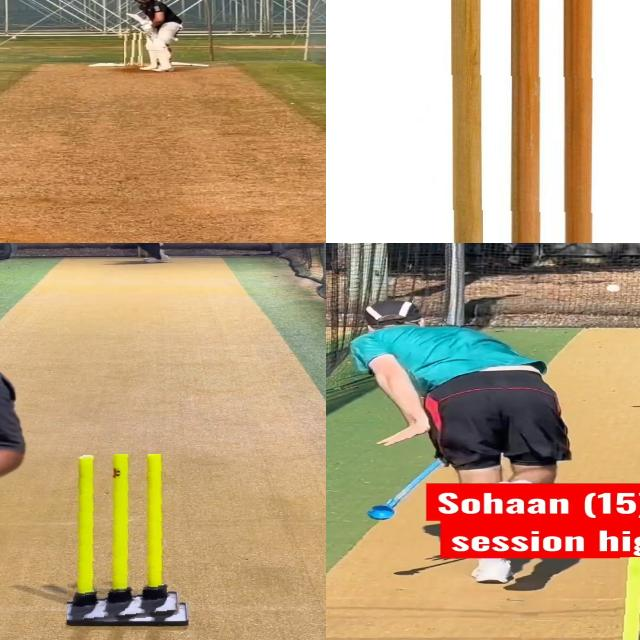Cricket ball: (606, 284, 621, 293)
Stumps: (421, 0, 640, 243), (67, 454, 190, 626), (124, 32, 143, 68)
